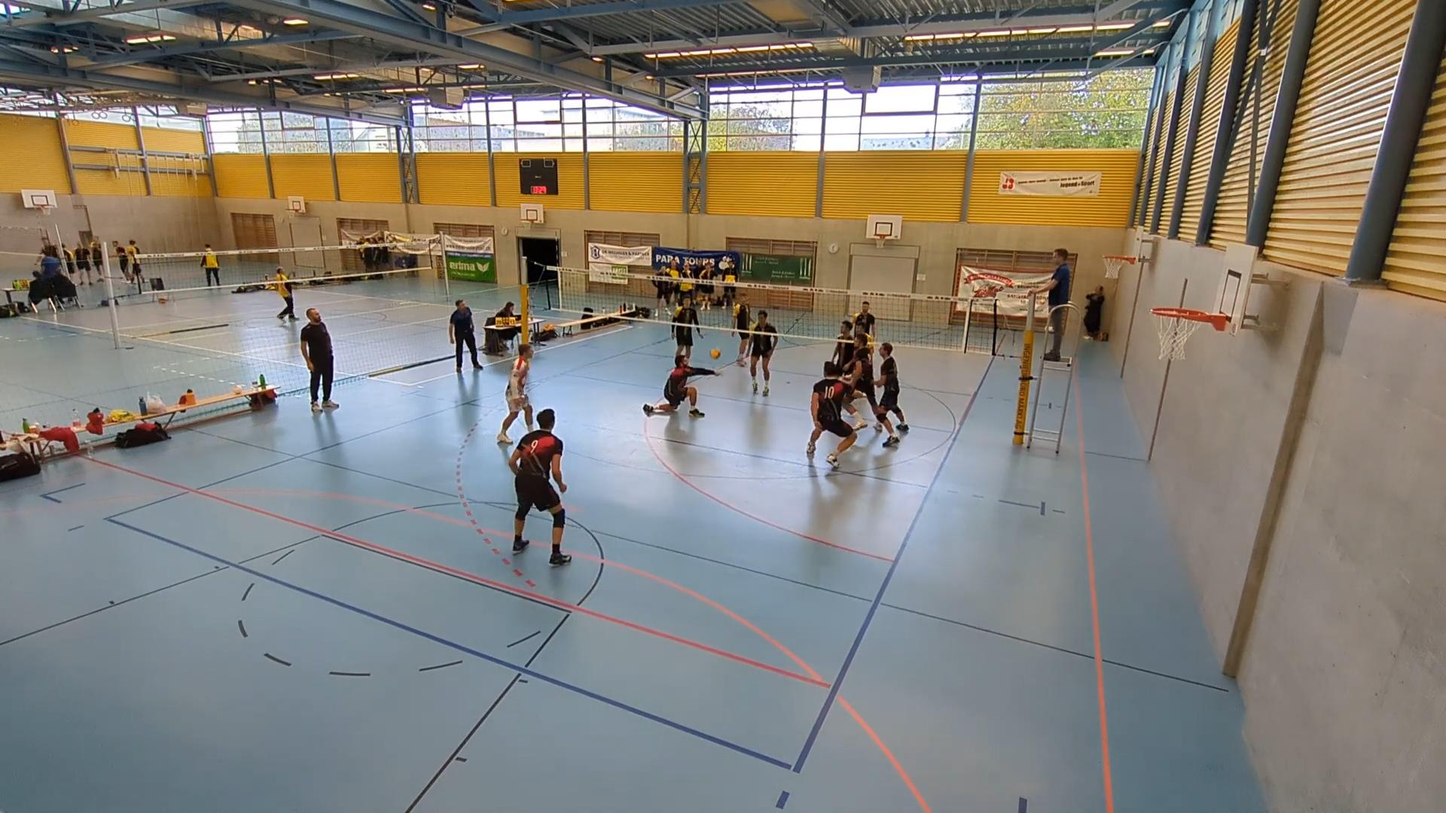Dig: (641, 349, 723, 420)
Player: (509, 409, 571, 565), (807, 362, 856, 468), (496, 343, 533, 444), (874, 342, 908, 447), (847, 329, 877, 416), (750, 309, 777, 396), (673, 294, 700, 359), (733, 291, 751, 366), (831, 320, 853, 369), (853, 300, 874, 341)
ball: (709, 346, 722, 359)
